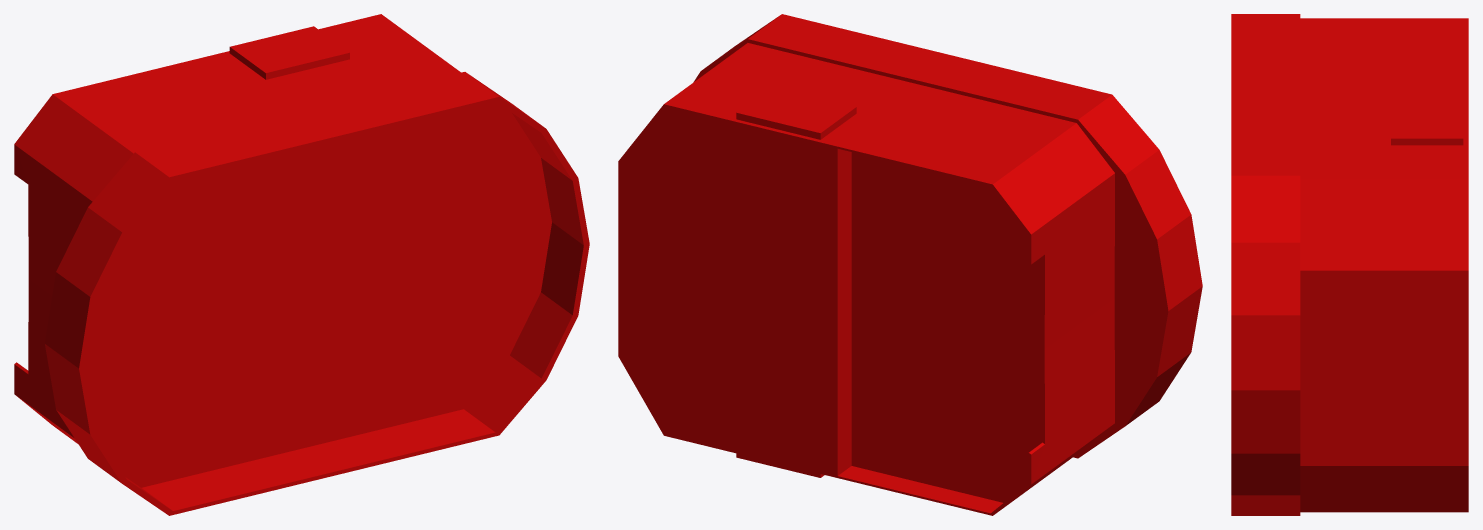
File: chassis_mesh.dae
3 views of the same model, side by side, from view 1: azimuth 30°, elevation 25°; view 2: azimuth 150°, elevation 25°; view 3: azimuth 270°, elevation 25° (orthographic).
Visible parts, largest first — view 1: chassis; view 2: chassis; view 3: chassis.
Boxes of the visible parts, x1=… form: chassis: x1=14, y1=14, x2=589, y2=515; chassis: x1=618, y1=14, x2=1202, y2=515; chassis: x1=1231, y1=14, x2=1468, y2=515.
Bounding box in the file's own units: 0.4298 × 0.2771 × 0.1722.
